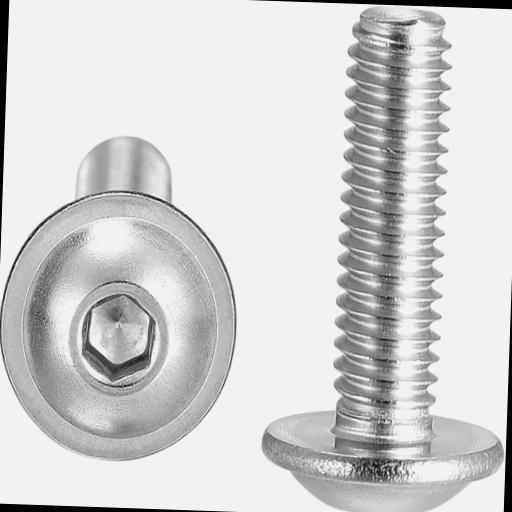Hex-Allen: (0, 185, 243, 465)
